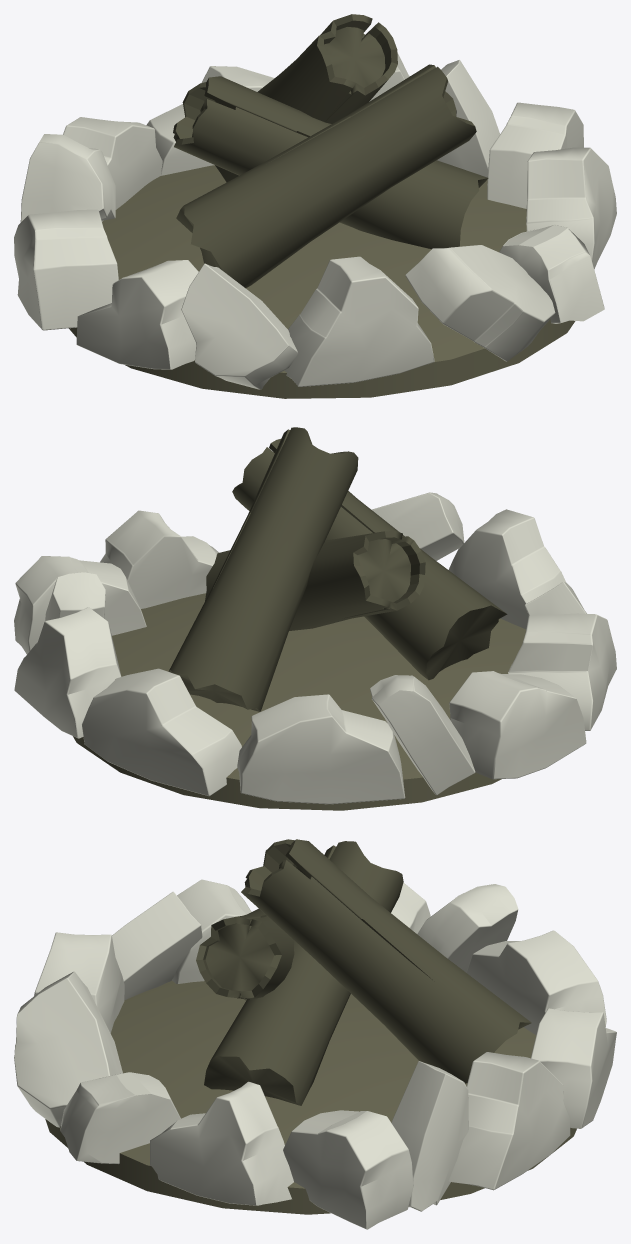
File: Pit.fbx
3 renders of one model, top to bottom at view 1: azimuth 30°, elevation 25°; view 2: azimuth 150°, elevation 25°; view 3: azimuth 270°, elevation 25°, orthographic. The views are drawn at different scales.
Visible parts, largest first — view 1: Stump5, pCylinder5, Stump4, pCube12, pCube21, pCube10, pCube11, Stump3, pCube13, pCube18, pCube9, pCube20 (+4 smaller); view 2: Stump3, pCylinder5, pCube6, pCube8, Stump5, pCube10, Stump4, pCube14, pCube12, pCube11, pCube18, pCube9 (+4 smaller); view 3: Stump3, pCylinder5, Stump4, pCube18, pCube14, pCube16, pCube21, pCube6, pCube20, pCube17, pCube8, Stump5 (+5 smaller).
Part boxes in pixels (<box>): Stump5: <box>176,64,476,288</box>; pCylinder5: <box>69,165,575,398</box>; Stump4: <box>173,76,488,249</box>; pCube12: <box>284,256,434,386</box>; pCube21: <box>405,245,555,361</box>; pCube10: <box>14,209,118,330</box>; pCube11: <box>76,260,198,369</box>; Stump3: <box>215,14,397,182</box>; pCube13: <box>181,263,298,389</box>; pCube18: <box>526,147,616,269</box>; pCube9: <box>20,134,115,222</box>; pCube20: <box>499,225,604,323</box>; Stump3: <box>168,427,358,711</box>; pCylinder5: <box>73,593,525,810</box>; pCube6: <box>237,694,405,804</box>; pCube8: <box>82,668,241,796</box>; Stump5: <box>232,439,507,680</box>; pCube10: <box>449,671,586,779</box>; Stump4: <box>205,531,425,630</box>; pCube14: <box>14,607,121,738</box>; pCube12: <box>448,509,565,629</box>; pCube11: <box>508,613,616,730</box>; pCube18: <box>100,510,218,608</box>; pCube9: <box>370,675,475,795</box>; Stump3: <box>241,839,531,1083</box>; pCylinder5: <box>45,981,576,1214</box>; Stump4: <box>204,841,403,1105</box>; pCube18: <box>150,1081,293,1205</box>; pCube14: <box>448,1052,570,1190</box>; pCube16: <box>283,1110,413,1229</box>; pCube21: <box>14,971,122,1127</box>; pCube6: <box>466,930,606,1034</box>; pCube20: <box>60,1072,180,1163</box>; pCube17: <box>391,1061,468,1211</box>; pCube8: <box>531,1008,616,1128</box>; Stump5: <box>196,908,294,1000</box>.
Size of the model in its own units: 2.1 by 0.9551 by 1.92.
